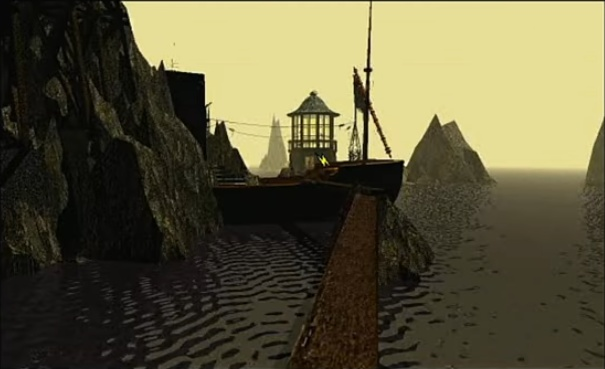Keep: (315, 152, 331, 168)
